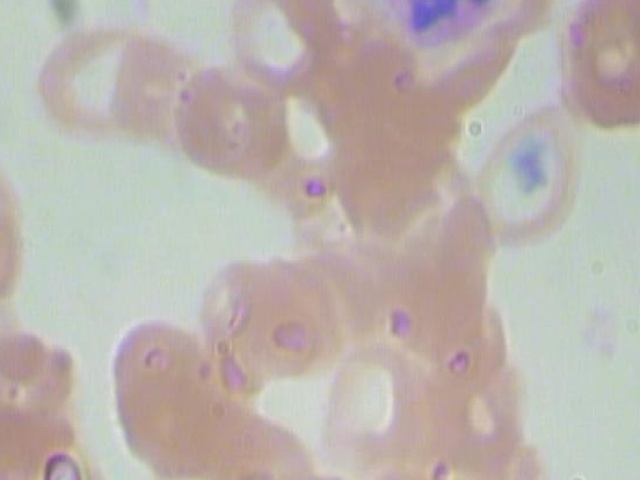RBC: (194, 236, 343, 385), (103, 310, 229, 475), (165, 43, 294, 193), (27, 3, 156, 152), (418, 332, 534, 480), (312, 327, 427, 476), (477, 99, 588, 247), (223, 0, 345, 97), (552, 0, 640, 129), (5, 403, 121, 480)
WBC: (363, 0, 518, 56)
